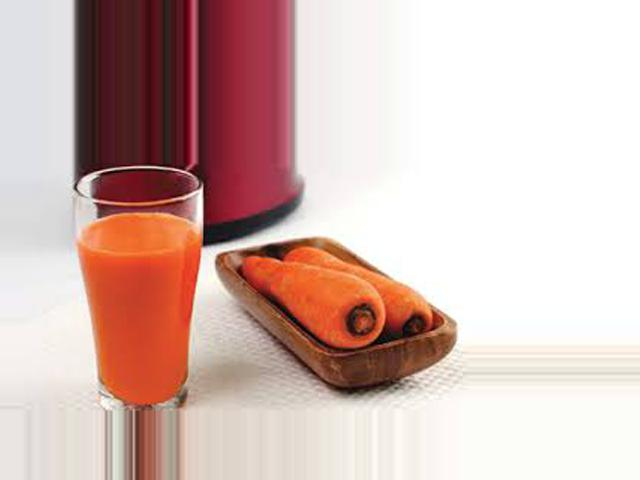carrot: (299, 246, 437, 342)
